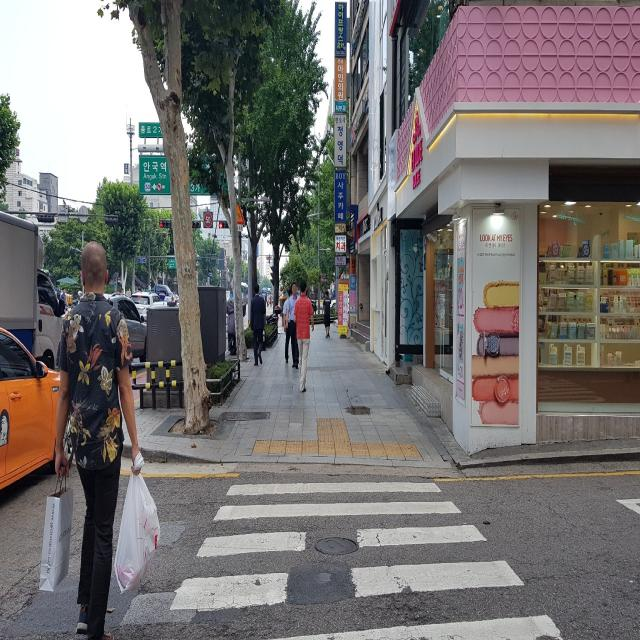횡단보도: (167, 477, 564, 640)
